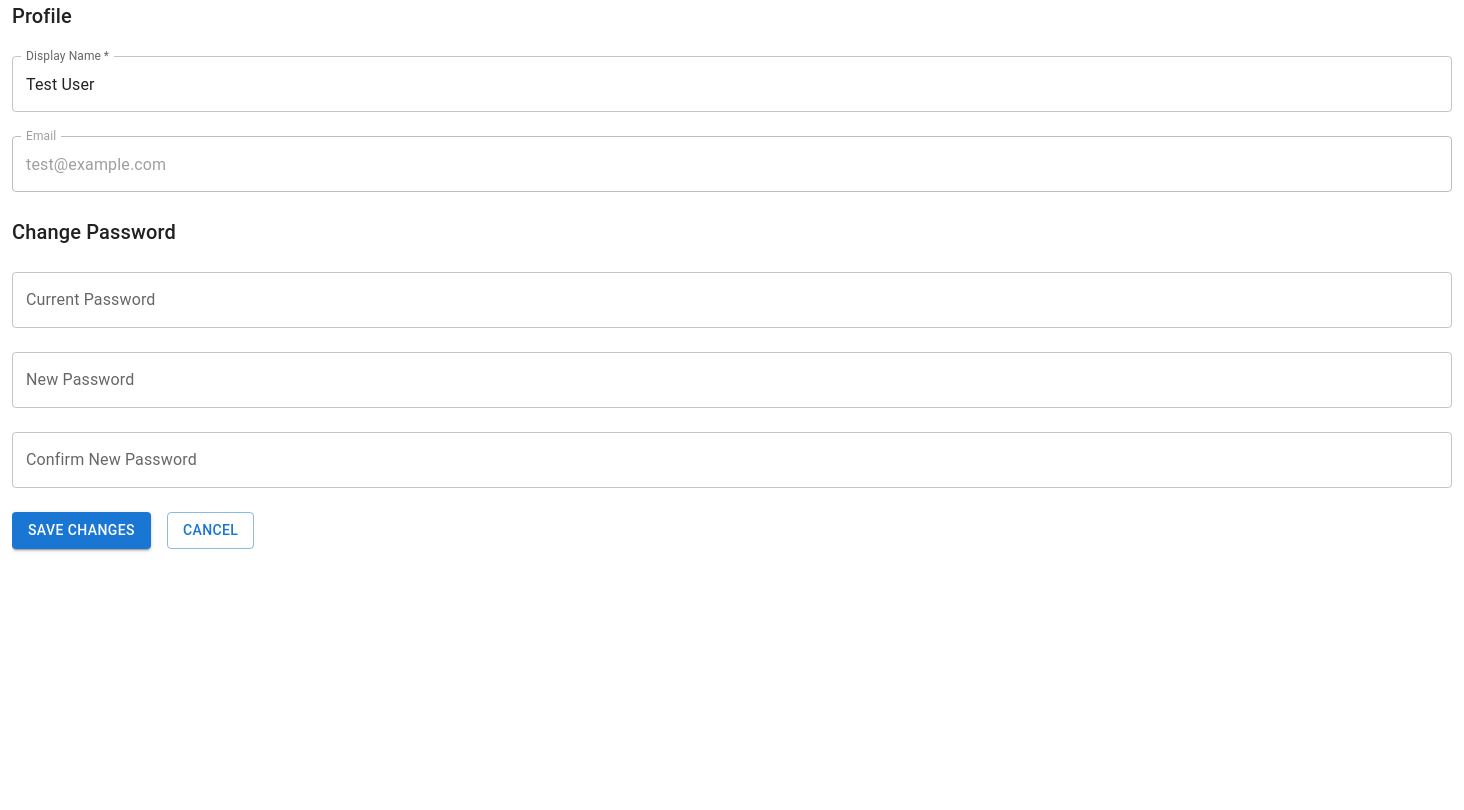
ProfileForm › Password Change › should validate password confirmation matches
The width and height of the screenshot is (1464, 810).
In the password field labelled "New Password": x=732, y=380 [12,352,1452,408], type "password123"
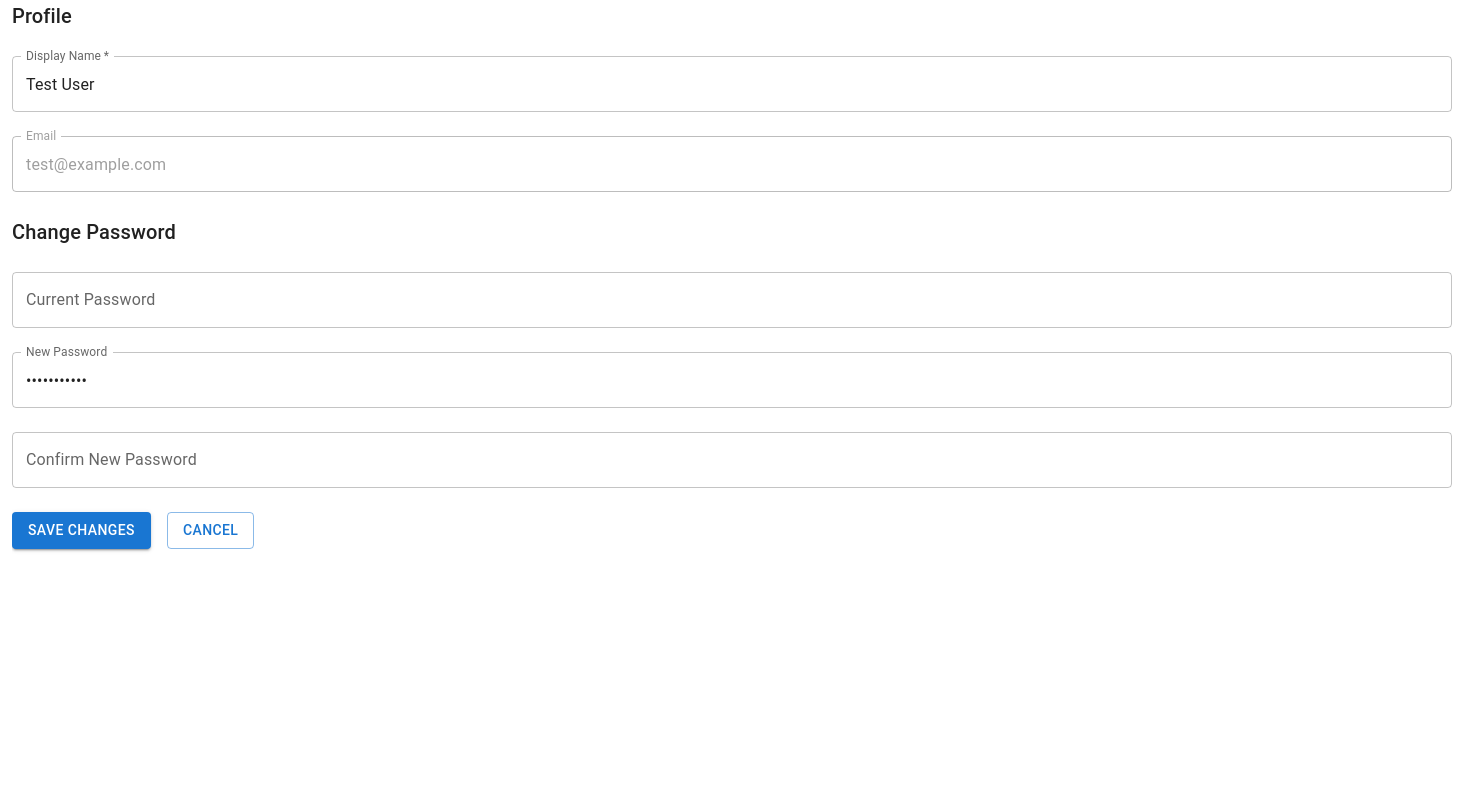
In the password field labelled "Confirm New Password": x=732, y=460 [12,432,1452,488], type "different123"
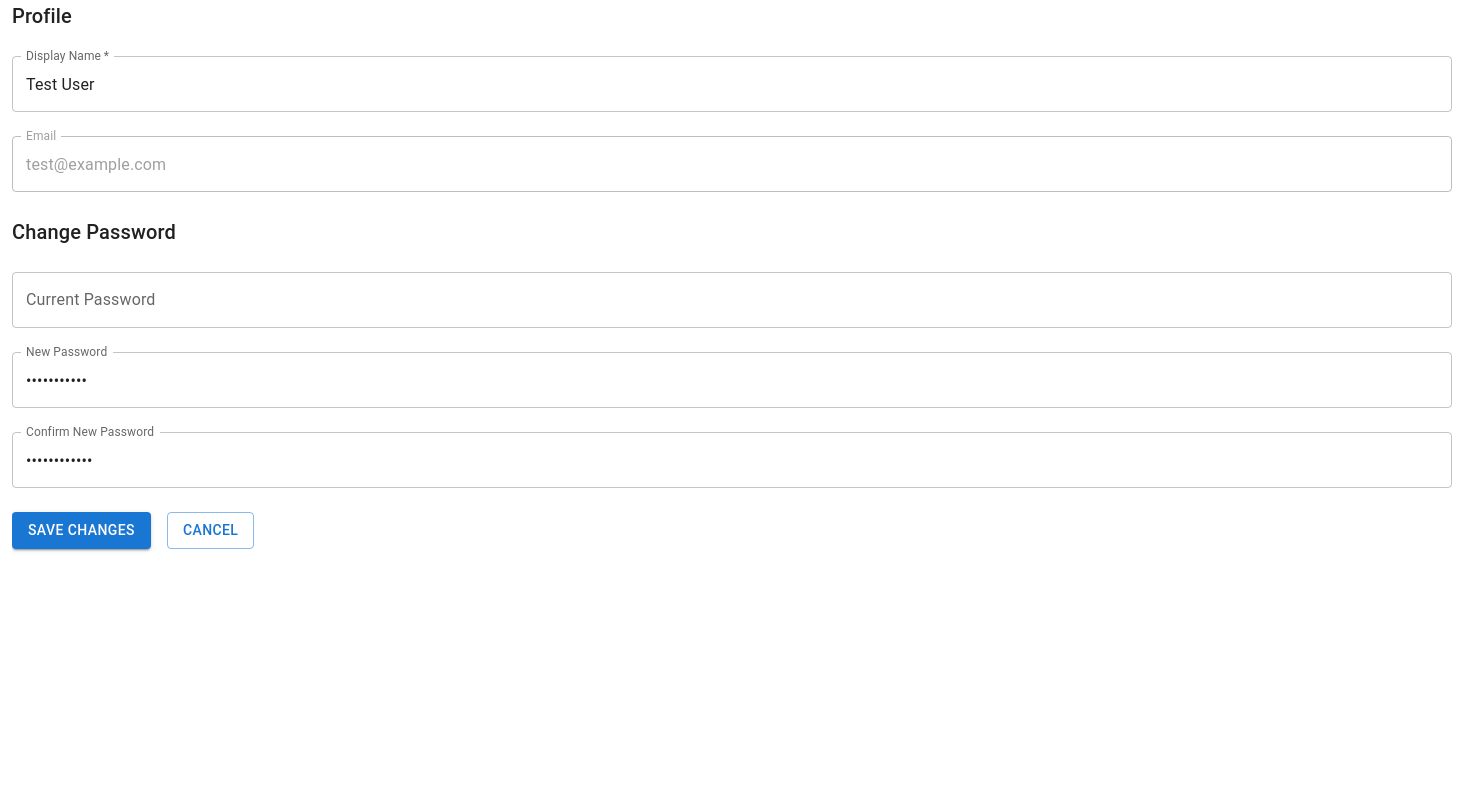
Leave the password field labelled "Confirm New Password", box [12,432,1452,488]
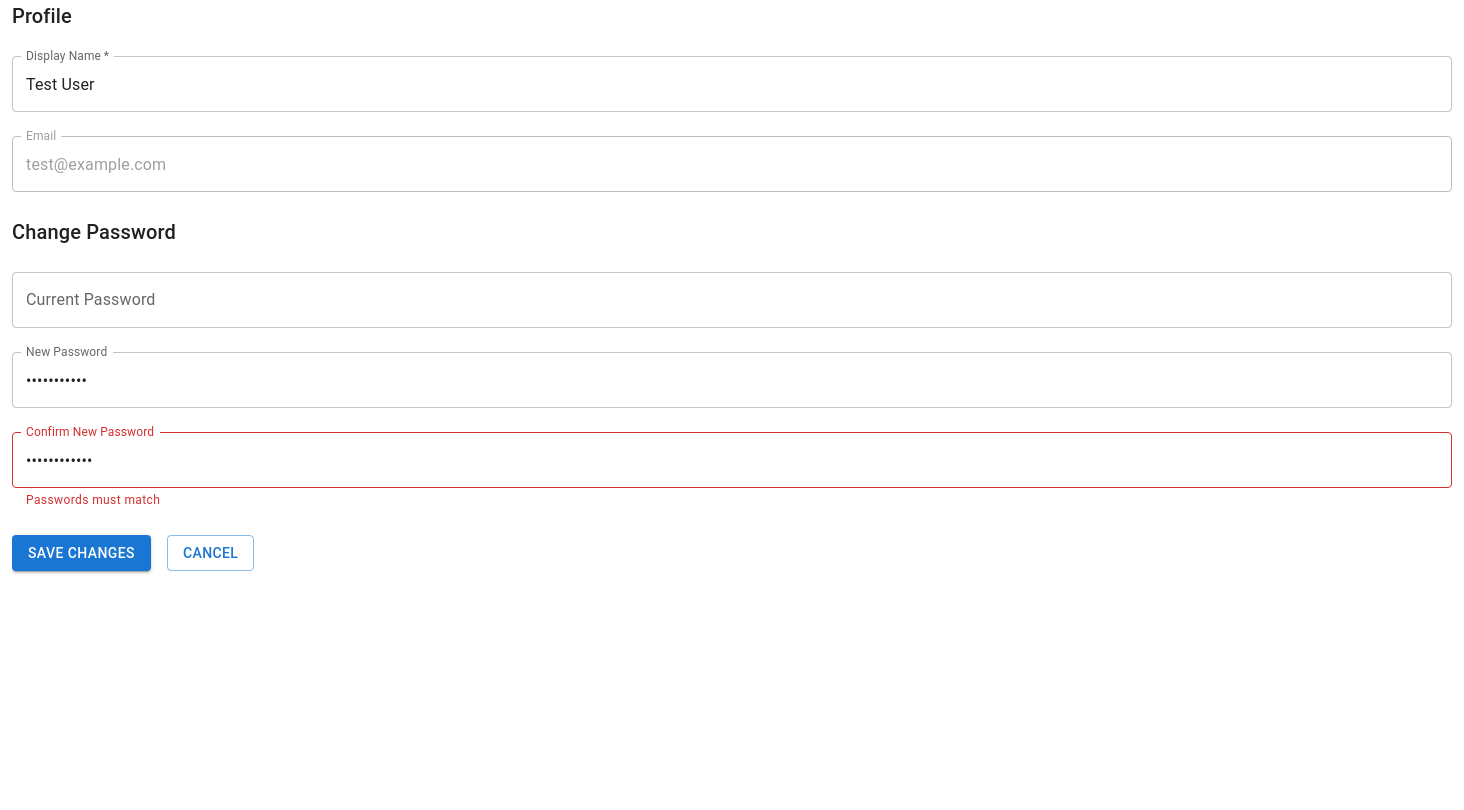
Expected: the text "Passwords must match" is shown, [26,493,160,507]
